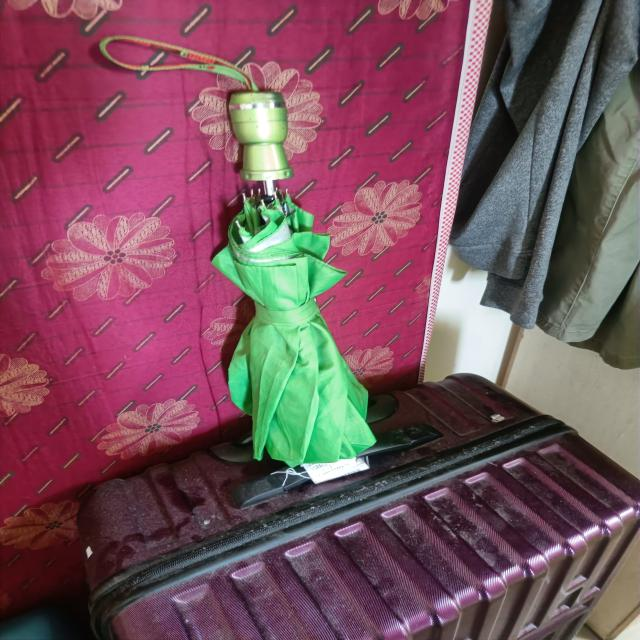umbrella: (204, 89, 375, 461)
